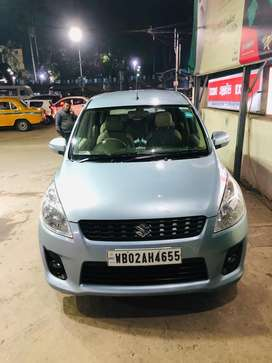WB02AH4655: (108, 247, 181, 266)
